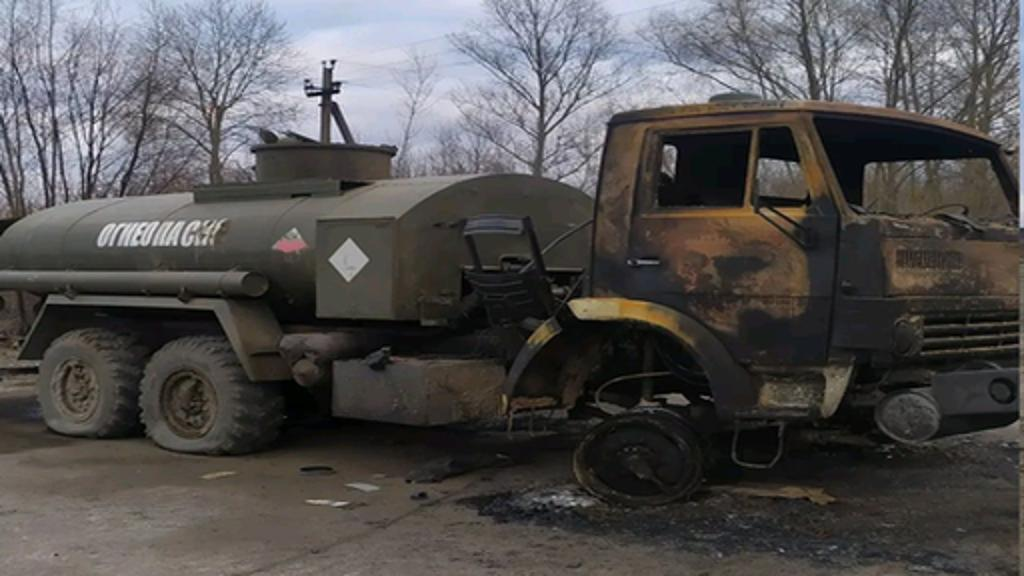TRUCK: (0, 88, 1018, 506)
